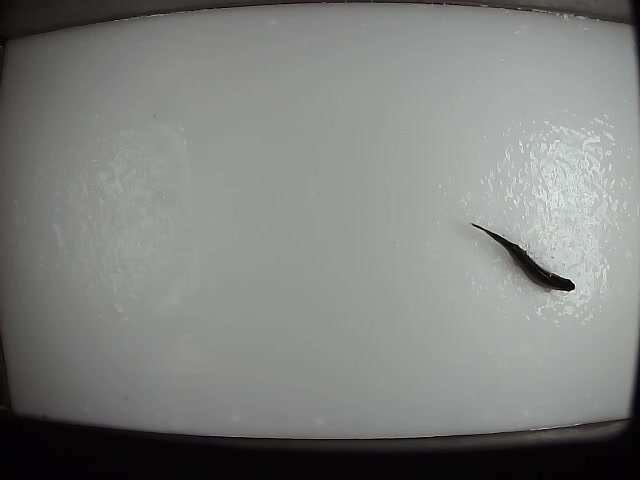fish: (467, 220, 576, 293)
